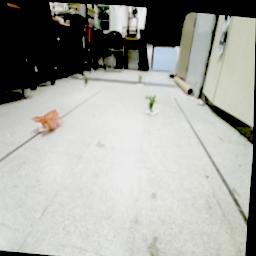herb: (144, 93, 158, 111), (83, 74, 90, 88), (139, 73, 143, 83)
wild: (30, 107, 63, 132)
